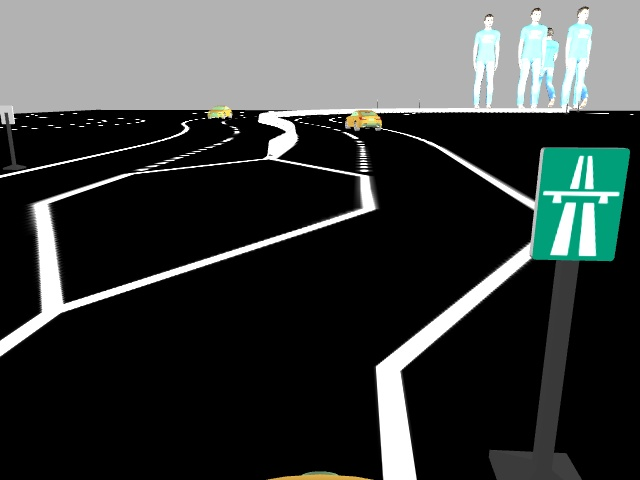HighwayEntrance: (528, 144, 630, 261)
